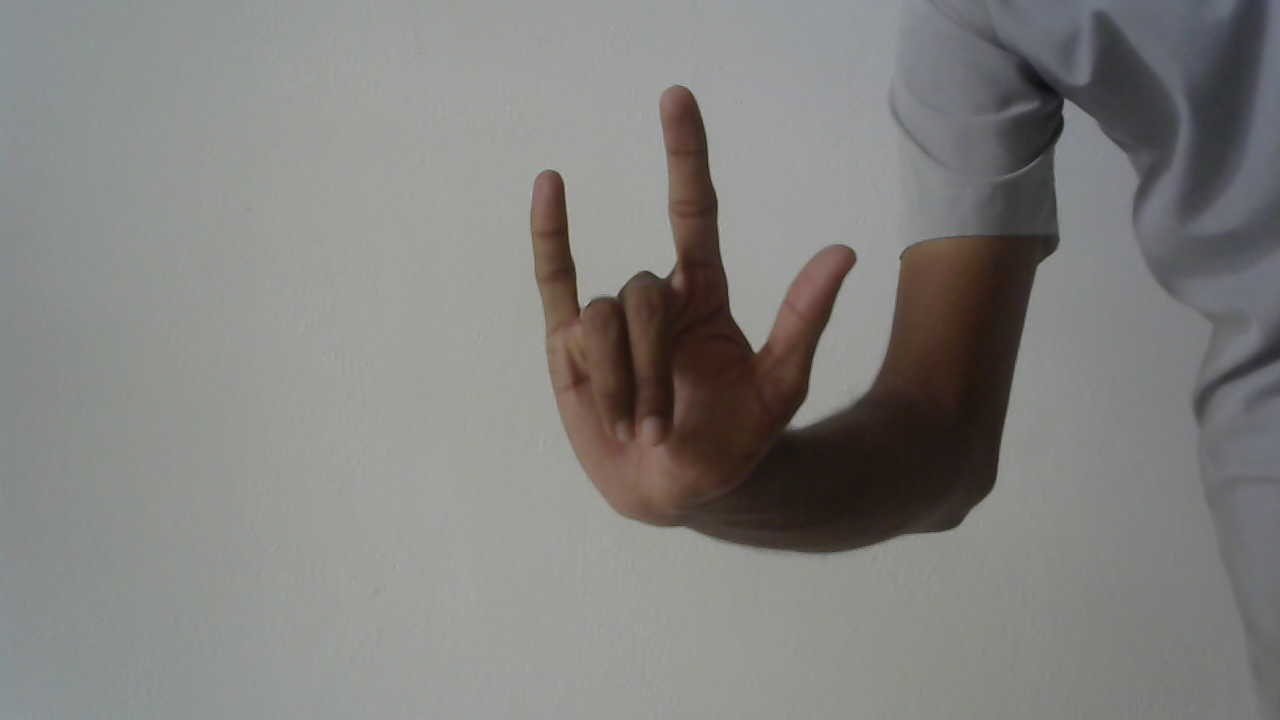iloveyou: (521, 84, 860, 528)
